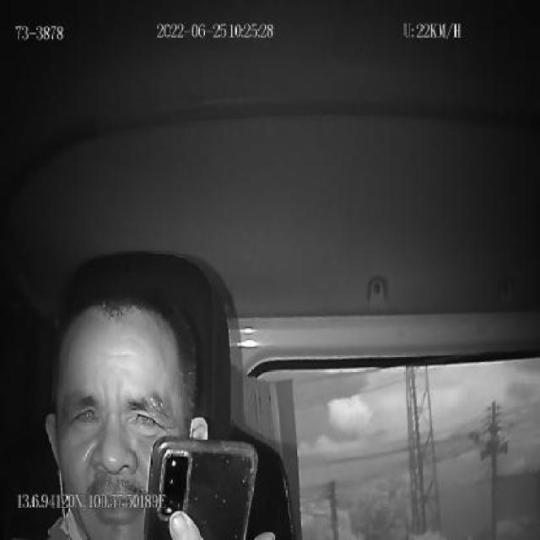phone: (144, 432, 259, 540)
